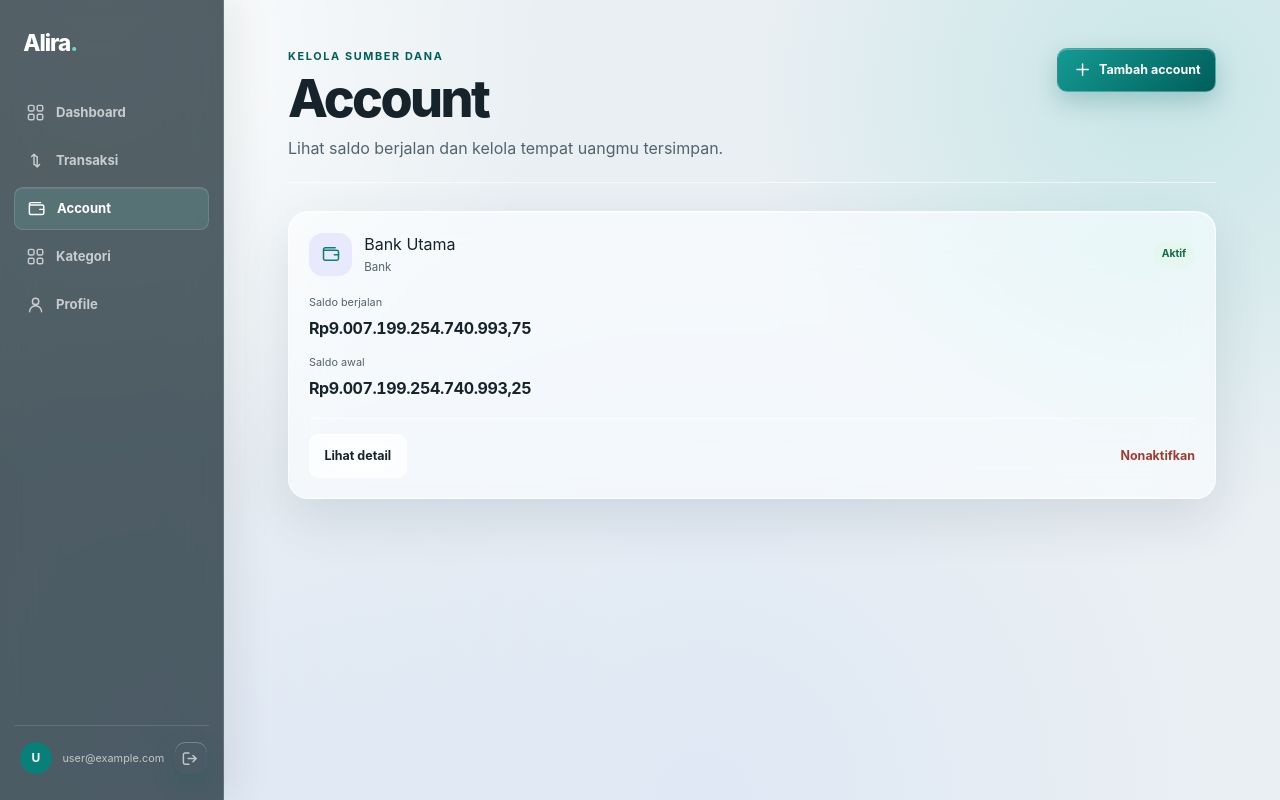
account management › shows deactivate impact, completes deactivation, and invalidates the list
The width and height of the screenshot is (1280, 800).
What coordinates should you click on to do the following:
click the button "Nonaktifkan"
I would click on:
 (1158, 456)
Its box is [1120,447,1195,466].
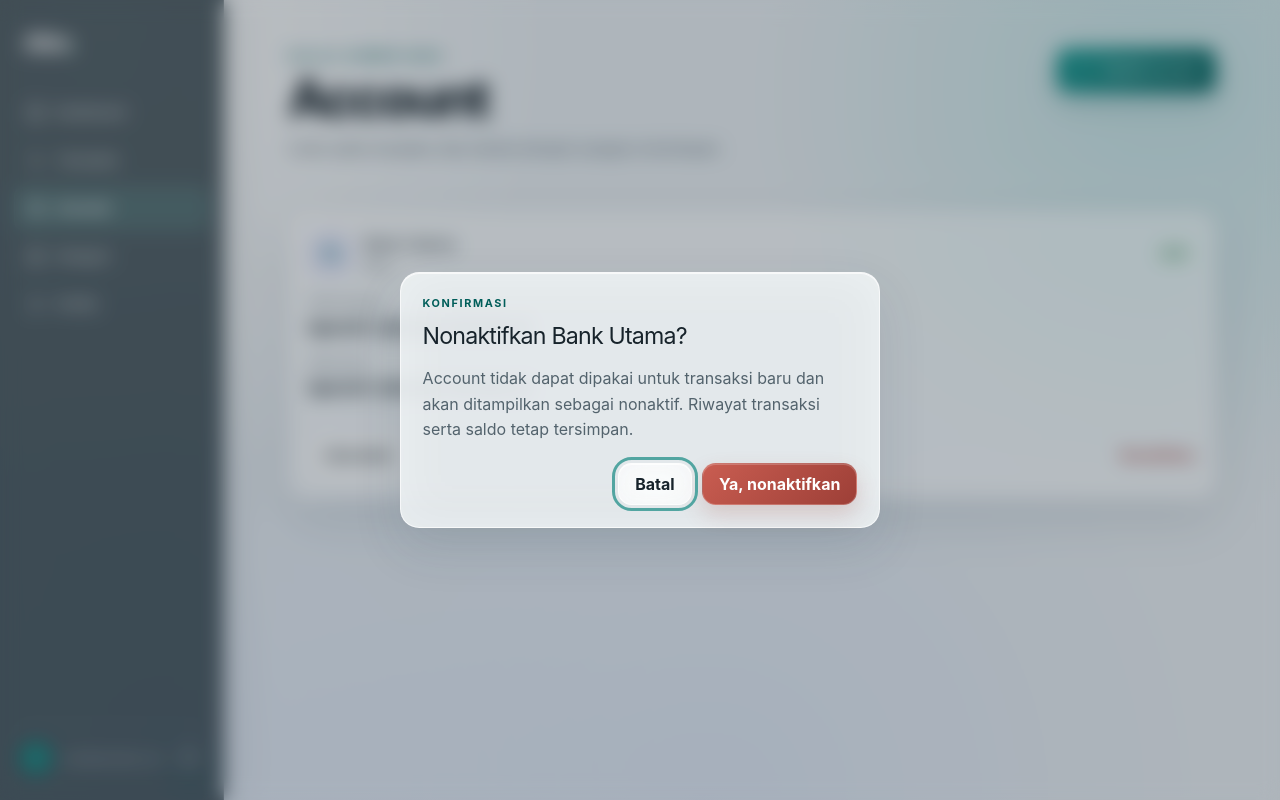
Expected: the dialog shows "tidak dapat dipakai untuk transaksi baru", [423,368,824,439]
Expected: the dialog shows "riwayat transaksi serta saldo tetap tersimpan", [423,368,824,439]
What coordinates should you click on to do the following:
click the button "Ya, nonaktifkan"
I would click on:
 (780, 484)
Its box is [702,463,857,505].
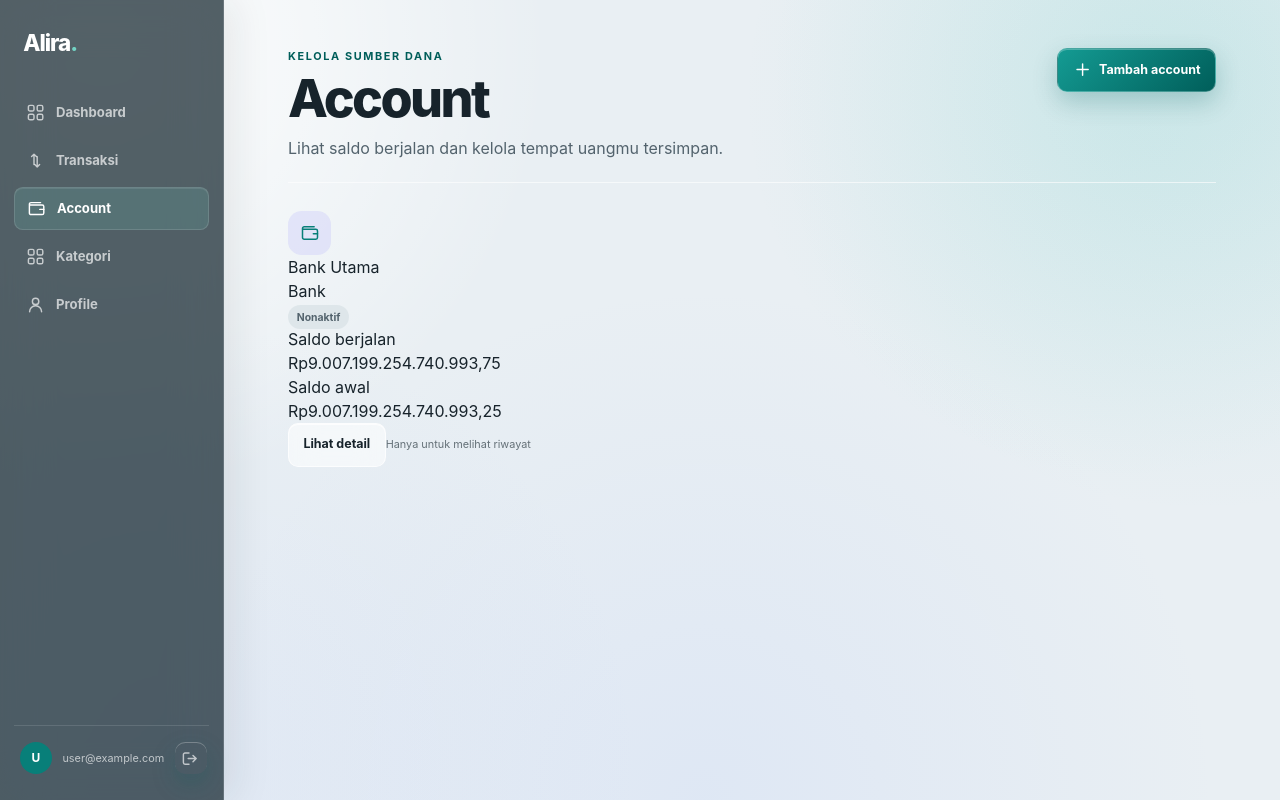
Expected: the dialog is gone
Expected: the text "Nonaktif" is shown, [288,305,349,329]
